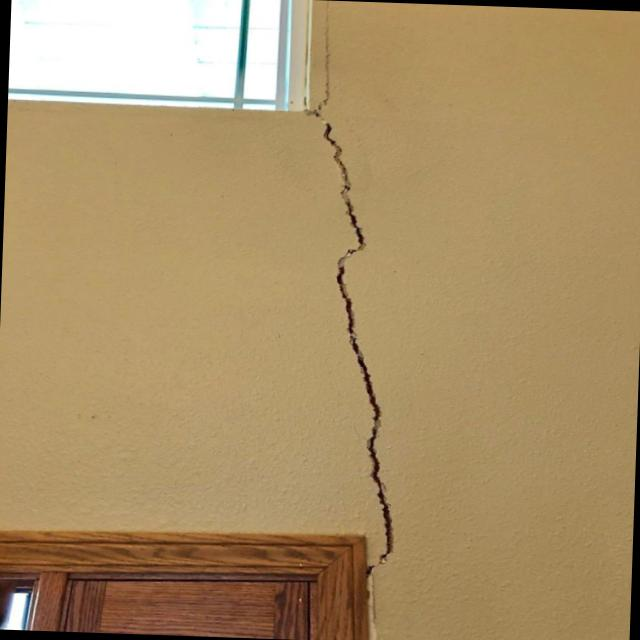crack: (291, 0, 418, 576)
